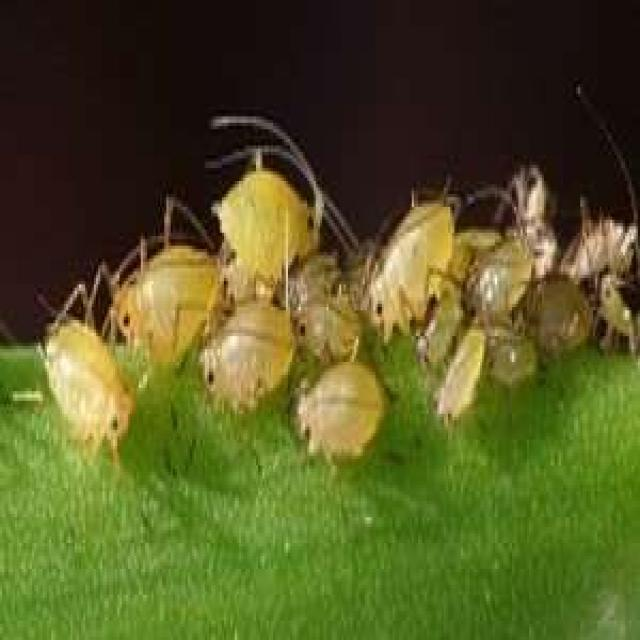Aphid-Grouped-: (12, 113, 620, 507)
Aphid-Grown-: (248, 332, 402, 486), (26, 294, 142, 473), (90, 230, 223, 362), (368, 197, 471, 335), (417, 321, 501, 431)
